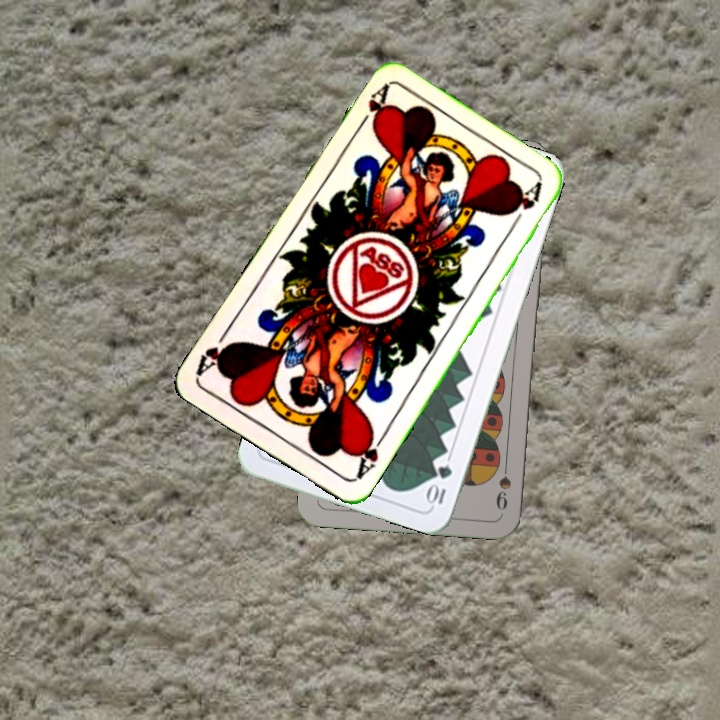G10: (424, 461, 455, 507)
HA: (352, 81, 392, 135), (352, 426, 390, 482)
S9: (491, 455, 513, 513)
